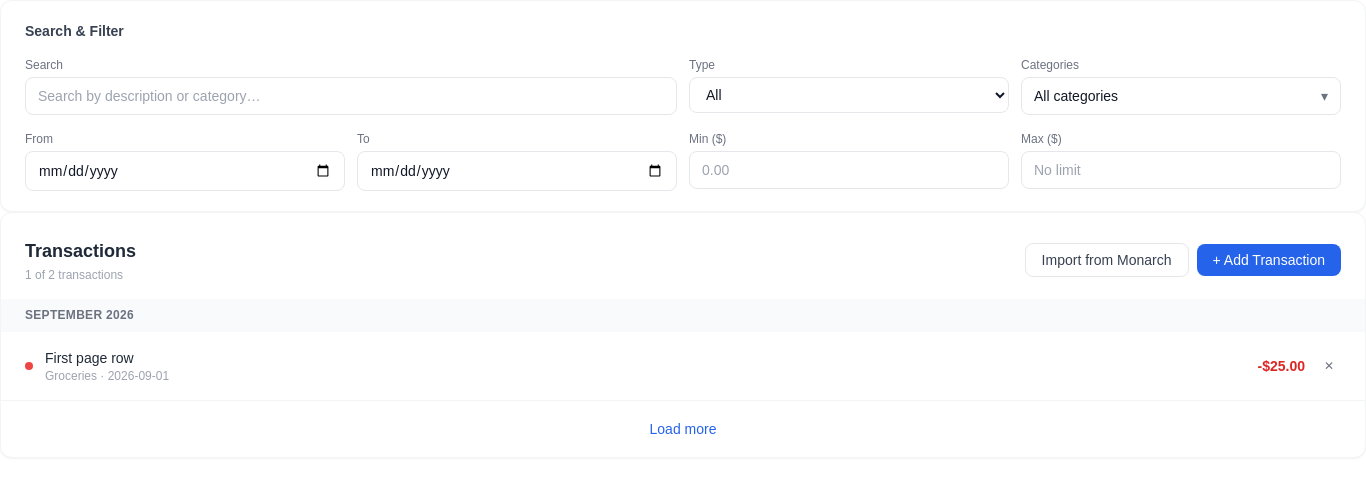
Test: TransactionsPage server-side paging › appends the next page when Load more is clicked
The image size is (1366, 487).
Expected: the text "First page row" is shown, left=45, top=350, right=134, bottom=366
Step 1. Click the button "Load more" → (683, 429), box left=650, top=419, right=716, bottom=439
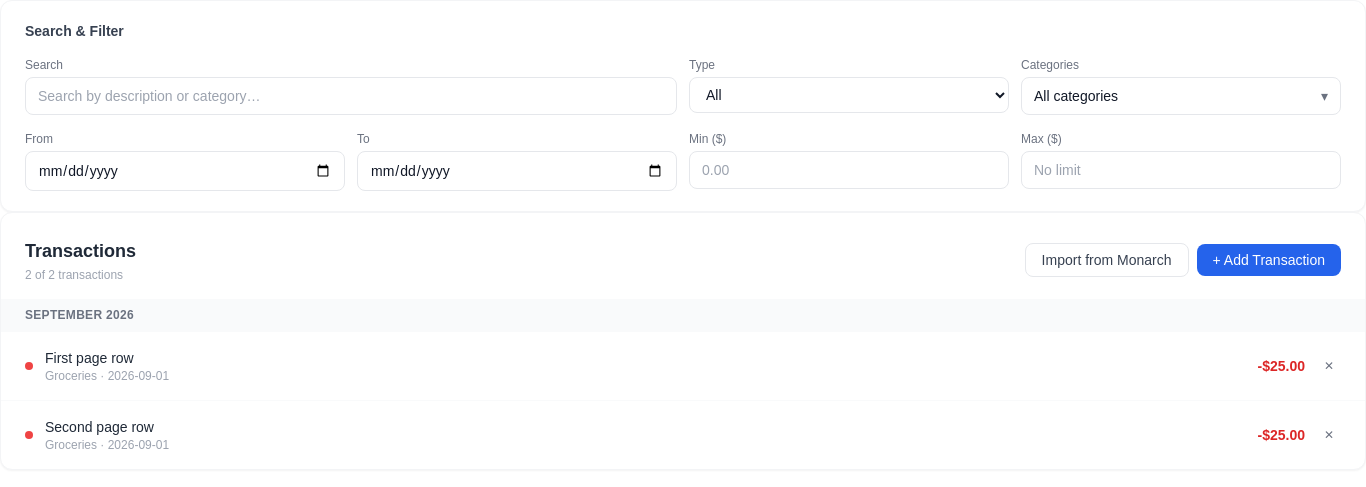
Expected: the text "First page row" is shown, left=45, top=350, right=134, bottom=366
Result: the text "Second page row" is shown at left=45, top=417, right=169, bottom=437
